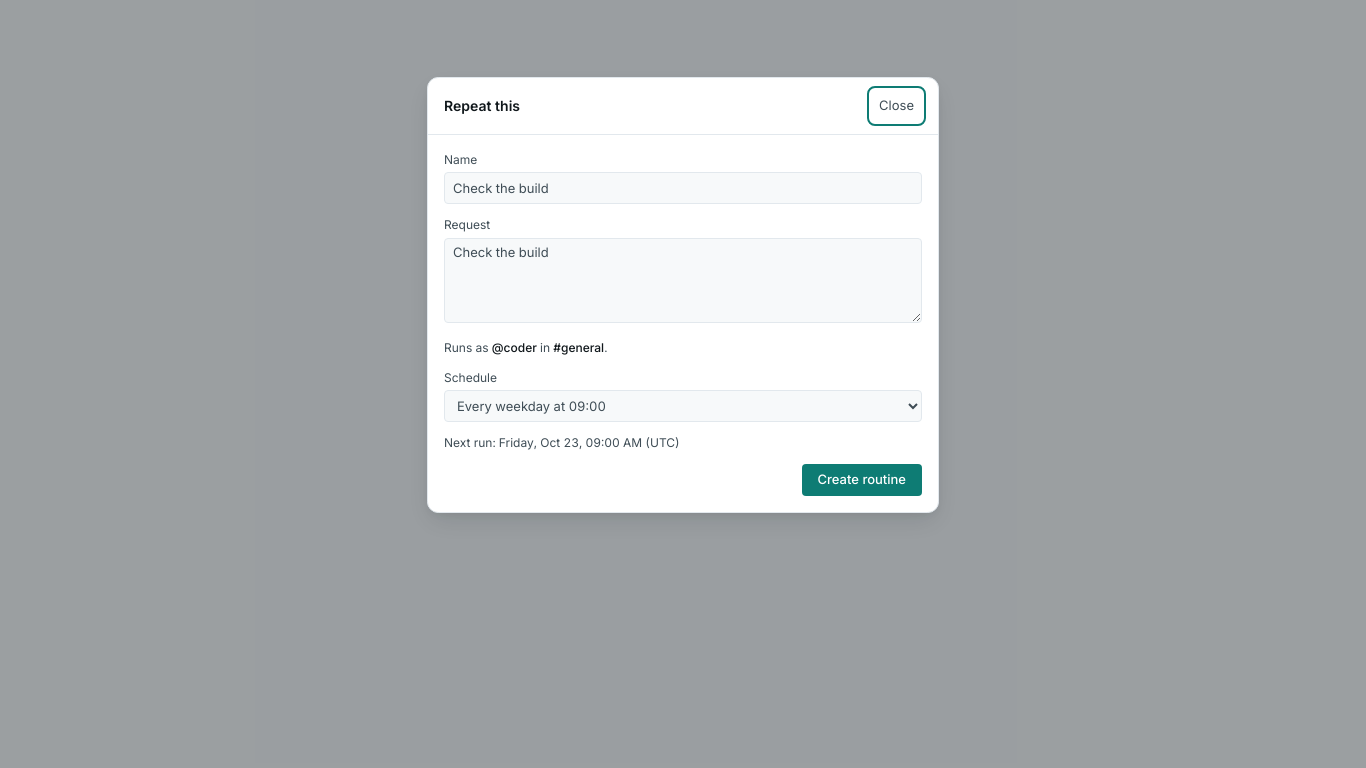
Test: RepeatDialog › is filled in from the run and saves a weekday routine
expect the text box labelled "Request" holds "Check the build": met, box [444,238,922,323]
expect the field labelled "Name" holds "Check the build": met, box [444,172,922,204]
Click the button "Create routine": (862, 480) [802,464,922,496]
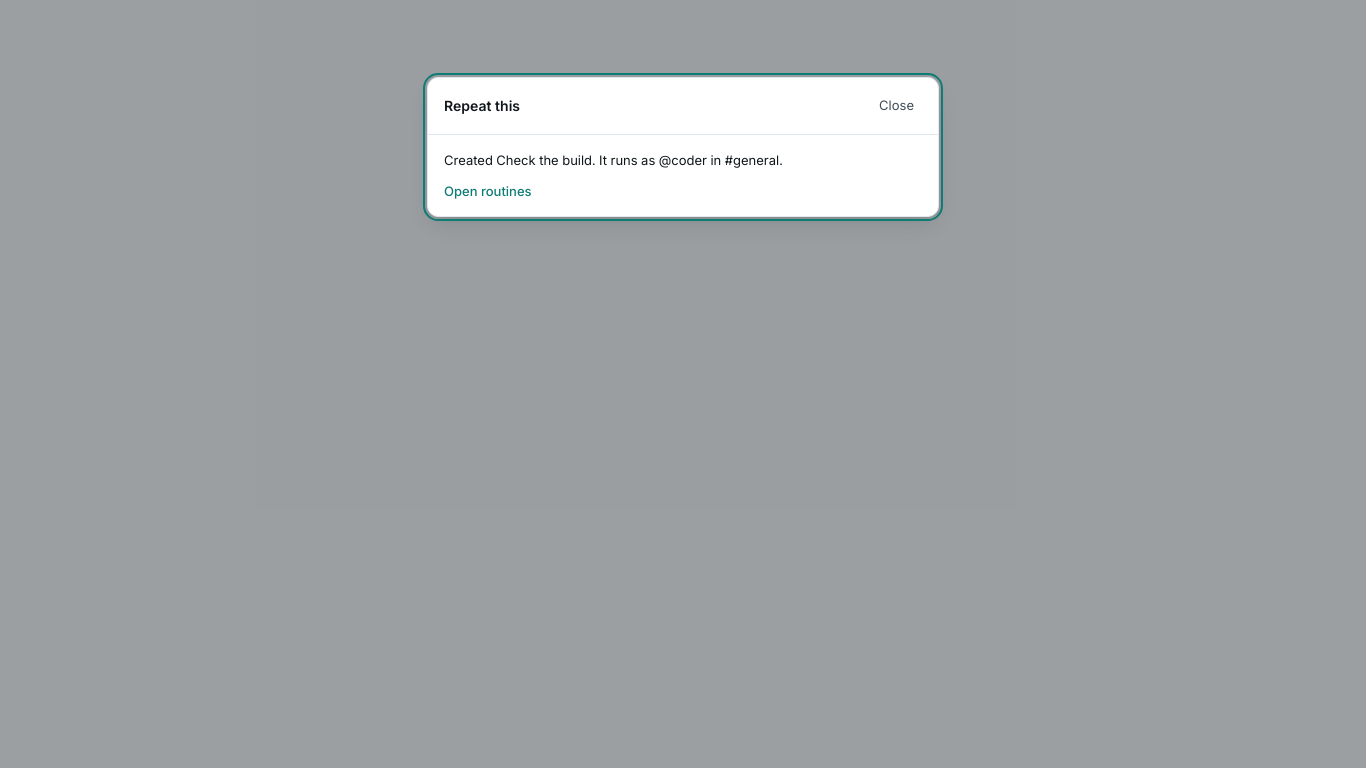
expect the message shows "Created Check the build.": met, box [444,152,783,168]
